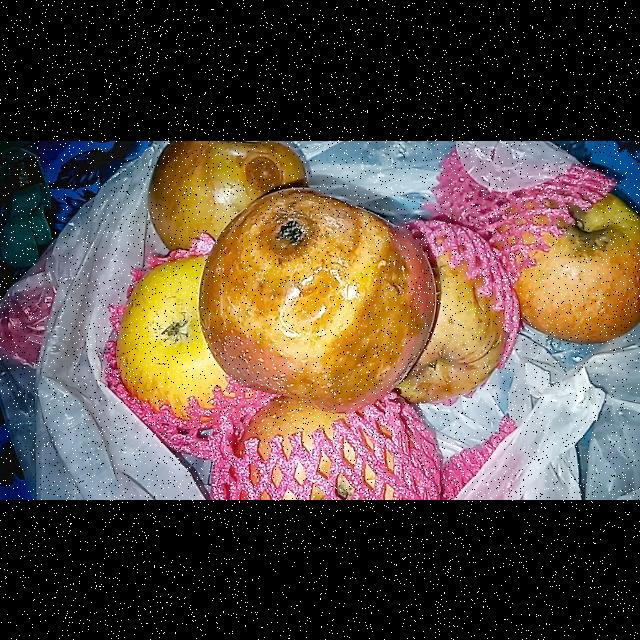Apel Segar: (91, 232, 299, 444), (199, 375, 471, 499)
Apel Tidak Segar: (201, 186, 449, 414), (397, 218, 548, 420), (494, 160, 640, 354), (138, 140, 332, 252)
